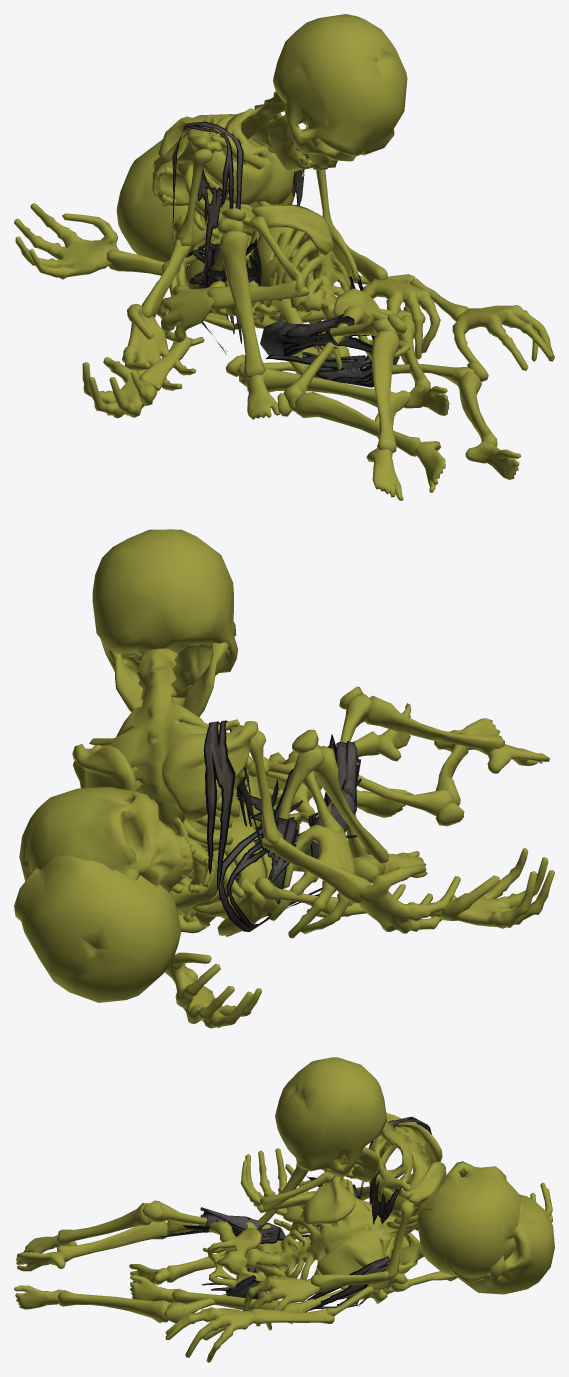
Rendered from Skeleton_01_Posed.fbx.
3 views of the same model, one above another, from view 1: azimuth 30°, elevation 25°; view 2: azimuth 150°, elevation 25°; view 3: azimuth 270°, elevation 25° (orthographic). The views are drawn at different scales.
Visible parts, largest first — view 1: SkeletonPose_A1, SkeletonPose_C1, SkeletonPose_B1, RagsPose_A1, RagsPose_B1, RagsPose_C1; view 2: SkeletonPose_A1, SkeletonPose_B1, SkeletonPose_C1, RagsPose_A1, RagsPose_B1; view 3: SkeletonPose_C1, SkeletonPose_A1, SkeletonPose_B1, RagsPose_C1, RagsPose_B1, RagsPose_A1.
Part boxes in pixels (bbox=[...]): SkeletonPose_A1: bbox=[122, 14, 449, 419]; SkeletonPose_C1: bbox=[14, 114, 445, 492]; SkeletonPose_B1: bbox=[82, 139, 554, 500]; RagsPose_A1: bbox=[172, 121, 304, 343]; RagsPose_B1: bbox=[185, 243, 372, 357]; RagsPose_C1: bbox=[246, 233, 399, 387]; SkeletonPose_A1: bbox=[72, 529, 460, 936]; SkeletonPose_B1: bbox=[14, 686, 554, 1002]; SkeletonPose_C1: bbox=[19, 718, 501, 1028]; RagsPose_A1: bbox=[203, 720, 298, 916]; RagsPose_B1: bbox=[218, 734, 361, 931]; SkeletonPose_C1: bbox=[16, 1161, 552, 1293]; SkeletonPose_A1: bbox=[130, 1057, 446, 1330]; SkeletonPose_B1: bbox=[14, 1148, 554, 1362]; RagsPose_C1: bbox=[201, 1224, 390, 1310]; RagsPose_B1: bbox=[159, 1207, 309, 1243]; RagsPose_A1: bbox=[305, 1116, 431, 1224].
Bounding box in the file's own units: 1.34 × 0.9576 × 1.84.
